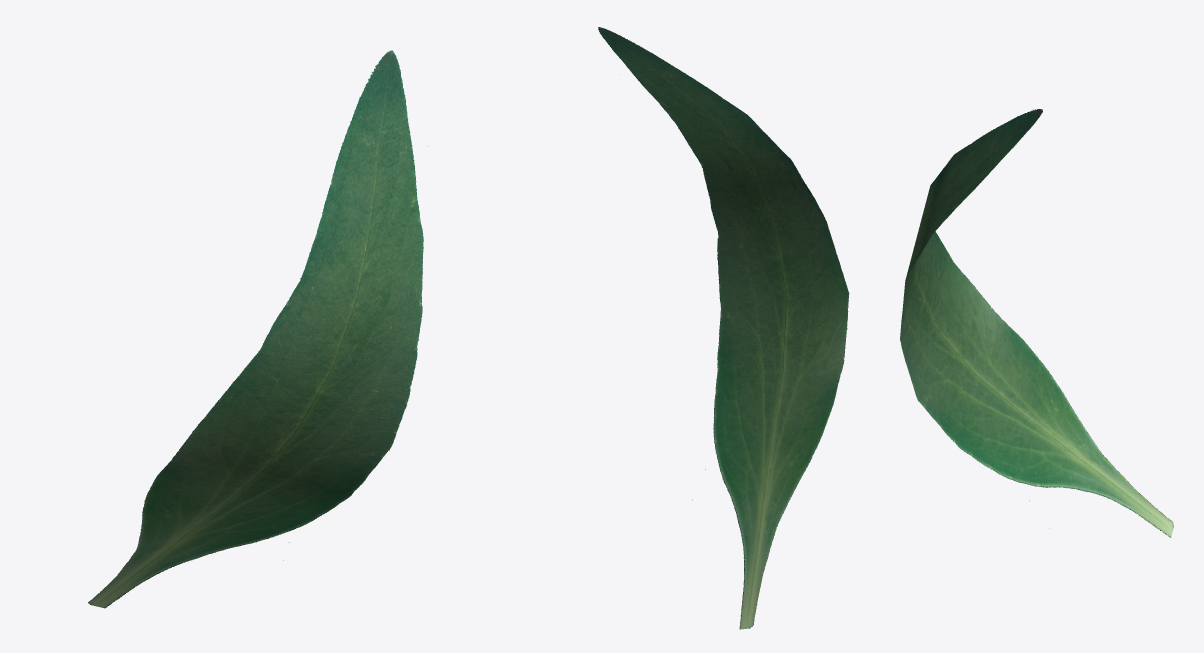
The picture shows the model from 3 angles, left to right: view 1: azimuth 30°, elevation 25°; view 2: azimuth 150°, elevation 25°; view 3: azimuth 270°, elevation 25°; orthographic projection. The views are drawn at different scales.
Parts seen in each view (by area): view 1: plant.007; view 2: plant.007; view 3: plant.007.
Boxes of the visible parts, <box> form: plant.007: <box>88,50,427,608</box>; plant.007: <box>598,27,849,629</box>; plant.007: <box>900,109,1173,537</box>.
Bounding box in the file's own units: 0.8361 × 1.32 × 0.5691.
Materials: 1 (1 with a texture image).
